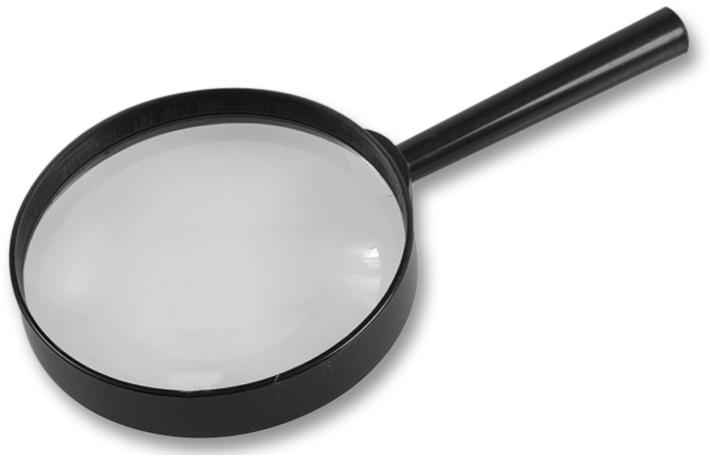magnifying-glass: (7, 80, 440, 447)
